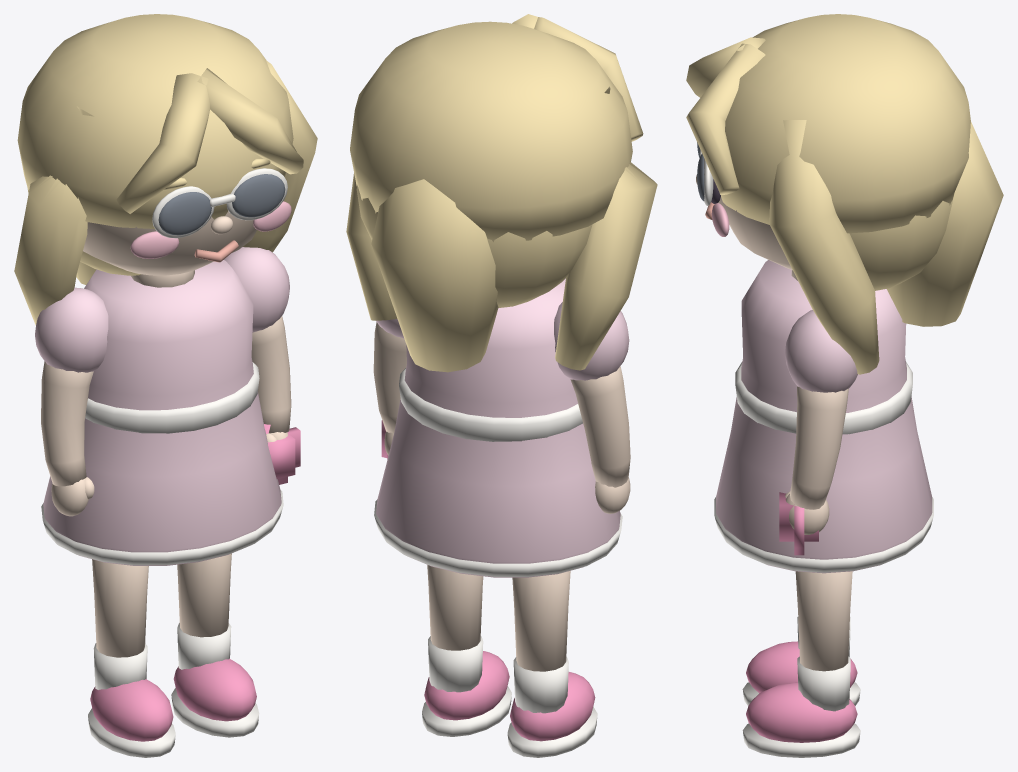
File: Char_Barbie.fbx
The picture shows the model from 3 angles, left to right: view 1: azimuth 30°, elevation 25°; view 2: azimuth 150°, elevation 25°; view 3: azimuth 270°, elevation 25°; orthographic projection. The views are drawn at different scales.
Visible parts, largest first — view 1: Char_Barbie; view 2: Char_Barbie; view 3: Char_Barbie.
Part boxes in pixels (left/top/right/bottom): Char_Barbie: left=14, top=14, right=317, bottom=757; Char_Barbie: left=346, top=14, right=657, bottom=757; Char_Barbie: left=686, top=14, right=1003, bottom=757.
Size of the model in its own units: 0.68 by 1.58 by 0.6637.
